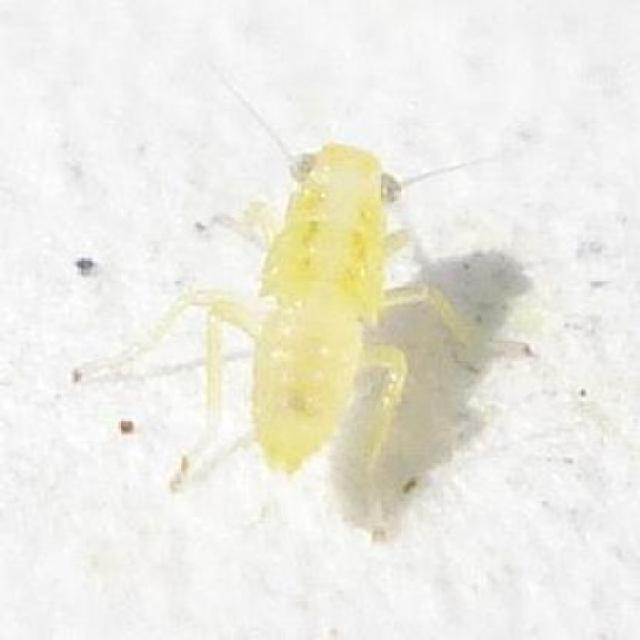green-leafhopper: (61, 144, 532, 529)
